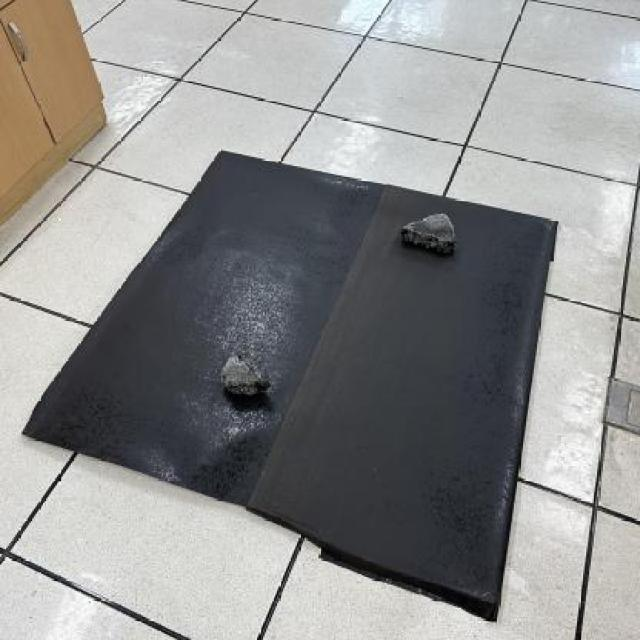Road Debris: (221, 361, 267, 394), (408, 224, 456, 238)
